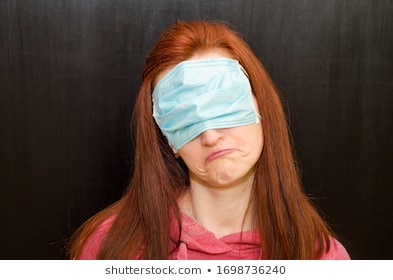mask_weared_incorrect: (163, 74, 256, 189)
